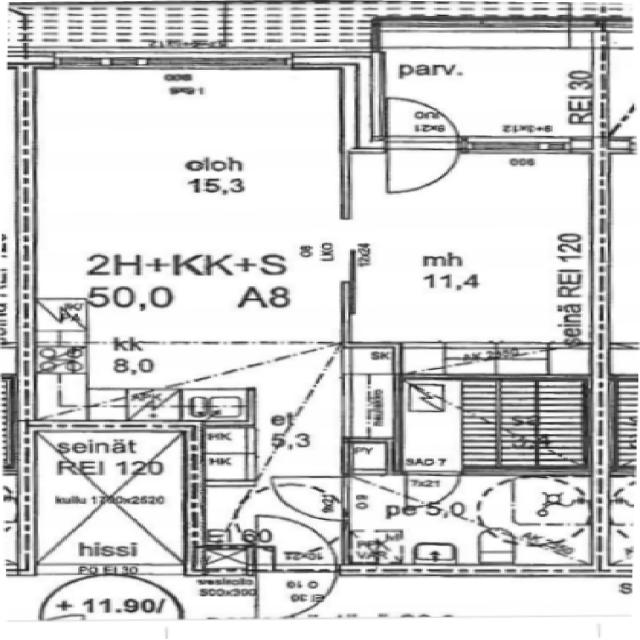door: (376, 95, 464, 196), (260, 538, 342, 618), (266, 474, 349, 522), (378, 96, 460, 140), (255, 515, 331, 555), (398, 465, 464, 507)
window: (38, 52, 246, 74), (459, 133, 584, 161)
zone: (24, 65, 356, 363), (343, 150, 595, 360), (341, 470, 604, 573), (18, 423, 192, 575), (372, 30, 607, 140), (392, 370, 594, 474), (51, 573, 181, 622), (192, 424, 262, 485)
